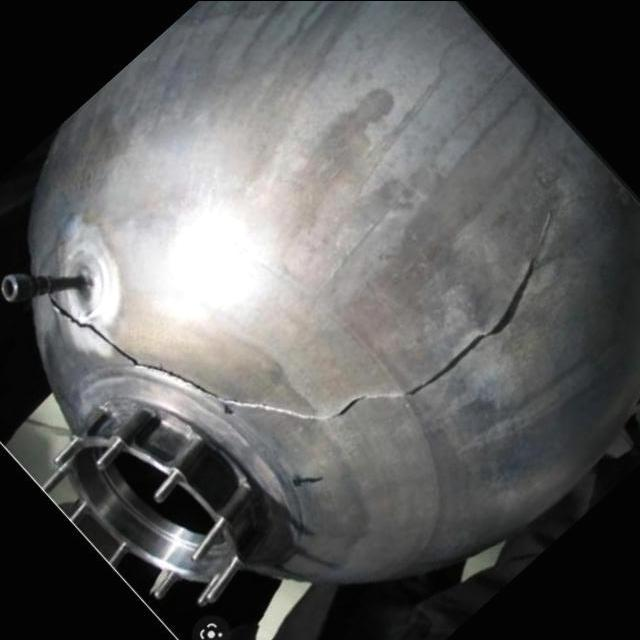defect: (45, 253, 542, 423)
